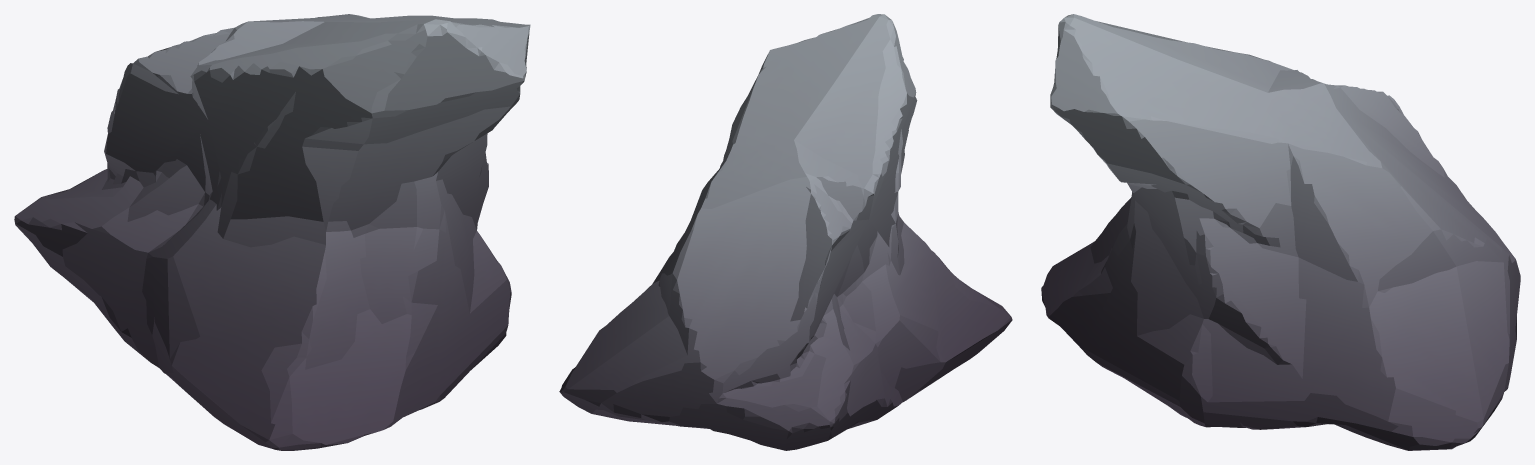
The model's file is rock_4_03.fbx.
3 views of the same model, side by side, from view 1: azimuth 30°, elevation 25°; view 2: azimuth 150°, elevation 25°; view 3: azimuth 270°, elevation 25° (orthographic). The views are drawn at different scales.
Parts seen in each view (by area): view 1: rock_4_03; view 2: rock_4_03; view 3: rock_4_03.
Boxes of the visible parts, x1=… form: rock_4_03: x1=14, y1=14, x2=530, y2=450; rock_4_03: x1=559, y1=14, x2=1012, y2=450; rock_4_03: x1=1041, y1=14, x2=1520, y2=450.
Bounding box in the file's own units: 312 × 310 × 383.
